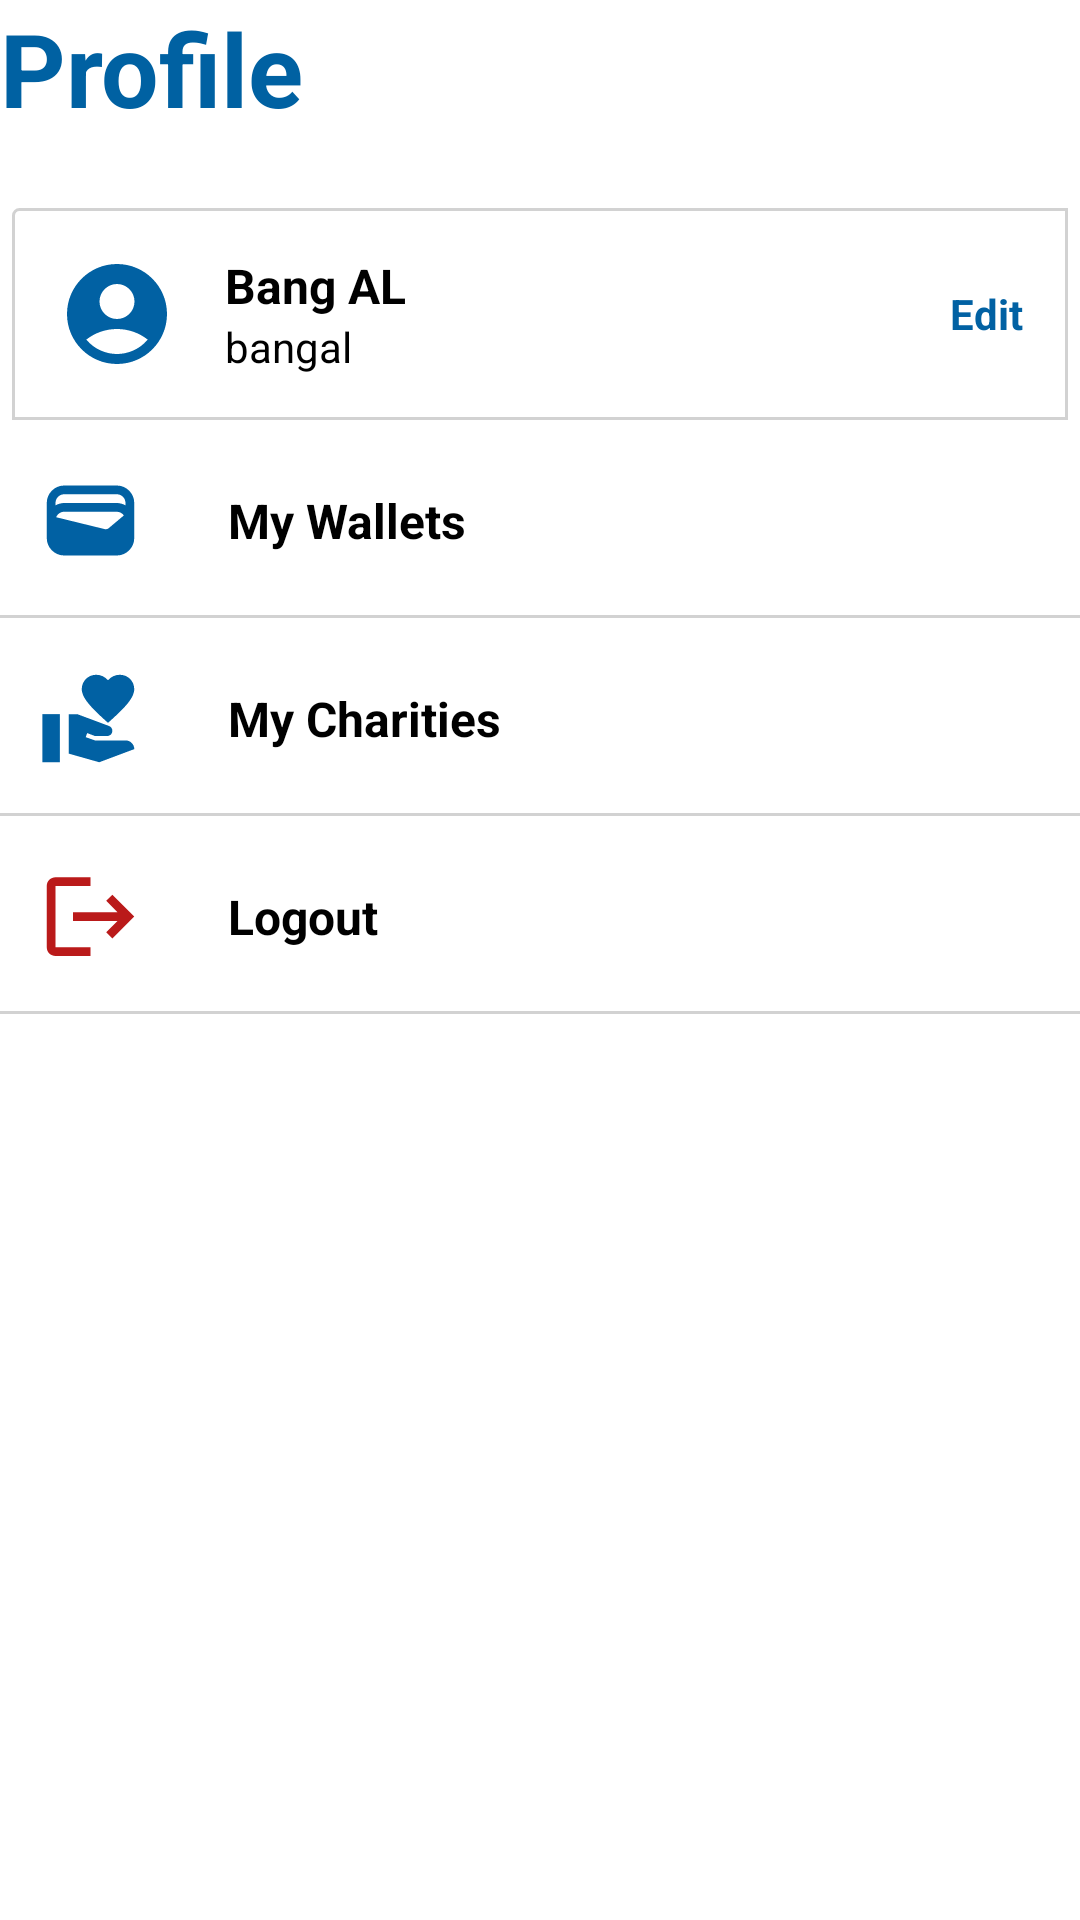

Screen size 1080w x 1920h. Icon name, then its center in pixels as point (x, y):
account circle: point (117, 314)
volunteer activism: point (88, 718)
